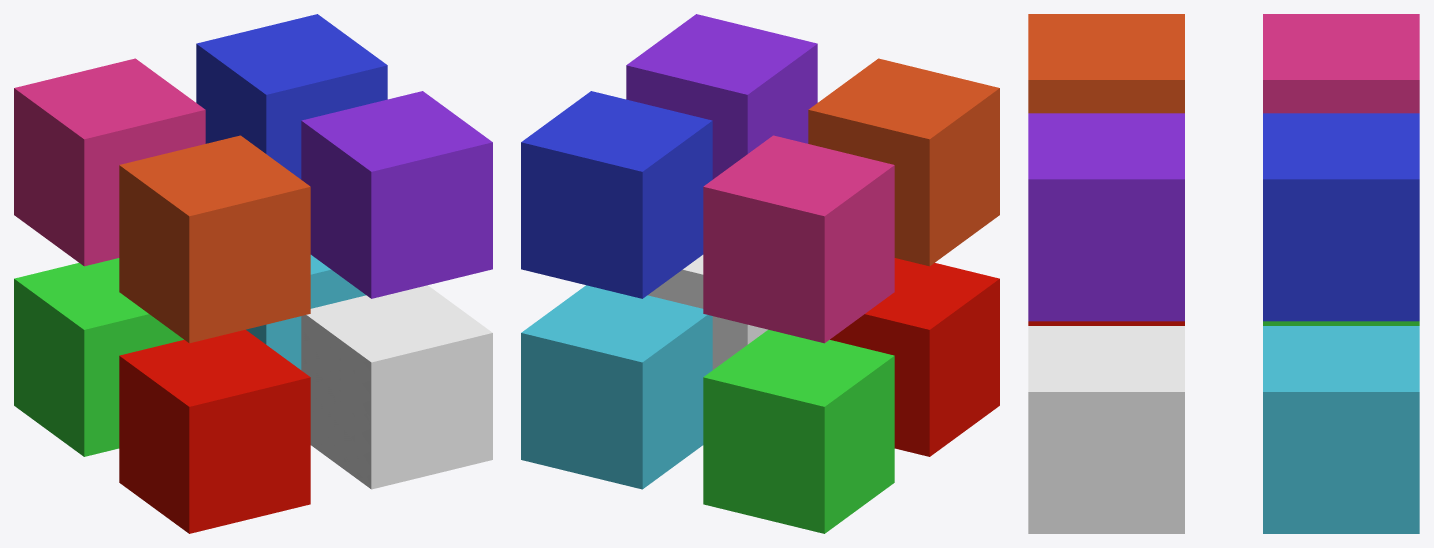
Rendered from coloredCubes.gltf.
The picture shows the model from 3 angles, left to right: view 1: azimuth 30°, elevation 25°; view 2: azimuth 150°, elevation 25°; view 3: azimuth 270°, elevation 25°; orthographic projection. The views are drawn at different scales.
Visible parts, largest first — view 1: Cube.002, Cube, Cube.006, Cube.004, Cube.003, Cube.001, Cube.007, Cube.005; view 2: Cube.003, Cube.001, Cube.007, Cube.005, Cube.002, Cube, Cube.006, Cube.004; view 3: Cube.006, Cube.007, Cube.004, Cube.005, Cube.002, Cube.003, Cube, Cube.001.
Boxes of the visible parts, bbox=[...] form: Cube.002: bbox=[119, 135, 310, 343]; Cube: bbox=[119, 329, 310, 533]; Cube.006: bbox=[301, 91, 492, 298]; Cube.004: bbox=[301, 285, 492, 489]; Cube.003: bbox=[14, 58, 205, 266]; Cube.001: bbox=[14, 258, 183, 456]; Cube.007: bbox=[196, 14, 387, 179]; Cube.005: bbox=[246, 255, 365, 369]; Cube.003: bbox=[703, 135, 894, 343]; Cube.001: bbox=[703, 329, 894, 533]; Cube.007: bbox=[521, 91, 712, 298]; Cube.005: bbox=[521, 285, 712, 489]; Cube.002: bbox=[808, 58, 999, 266]; Cube: bbox=[830, 258, 999, 456]; Cube.006: bbox=[626, 14, 817, 179]; Cube.004: bbox=[648, 255, 767, 369]; Cube.006: bbox=[1028, 113, 1184, 321]; Cube.007: bbox=[1263, 113, 1419, 321]; Cube.004: bbox=[1028, 326, 1184, 533]; Cube.005: bbox=[1263, 326, 1419, 533]; Cube.002: bbox=[1028, 14, 1184, 113]; Cube.003: bbox=[1263, 14, 1419, 113]; Cube: bbox=[1028, 321, 1184, 325]; Cube.001: bbox=[1263, 321, 1419, 325].
Size of the model in its own units: 5 by 5 by 5.
